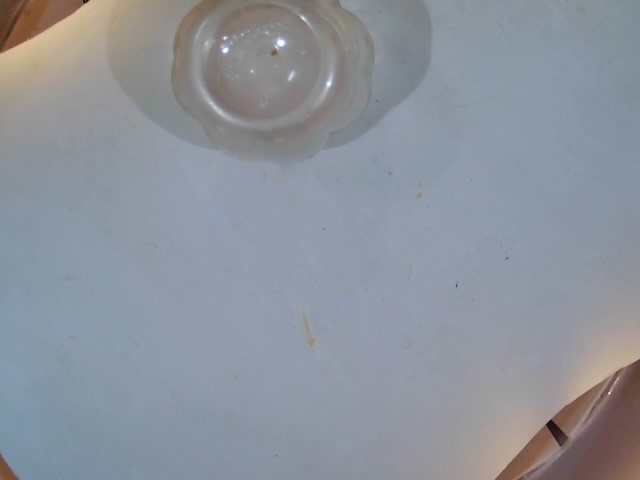plastic: (166, 0, 386, 171)
